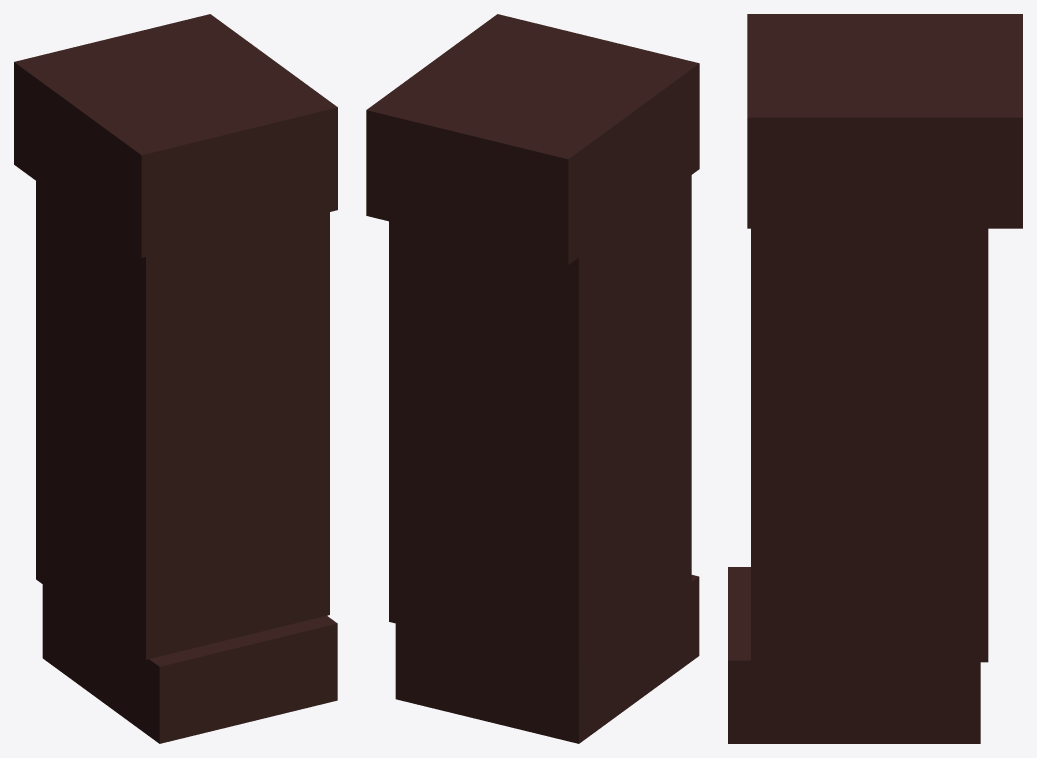
Rendered from ak_grip.glb.
The picture shows the model from 3 angles, left to right: view 1: azimuth 30°, elevation 25°; view 2: azimuth 150°, elevation 25°; view 3: azimuth 270°, elevation 25°; orthographic projection. The views are drawn at different scales.
Parts seen in each view (by area): view 1: grip_body, grip_swell, grip_collar; view 2: grip_body, grip_swell, grip_collar; view 3: grip_body, grip_swell, grip_collar.
Part boxes in pixels (x1,y1,x2,y2): grip_body: [36, 181, 329, 659]; grip_swell: [14, 14, 337, 257]; grip_collar: [42, 584, 337, 743]; grip_body: [389, 175, 691, 667]; grip_swell: [366, 14, 699, 264]; grip_collar: [395, 575, 699, 743]; grip_body: [751, 228, 988, 662]; grip_swell: [747, 14, 1022, 228]; grip_collar: [728, 567, 980, 743].
Size of the model in its own units: 0.032 by 0.091 by 0.0385.
